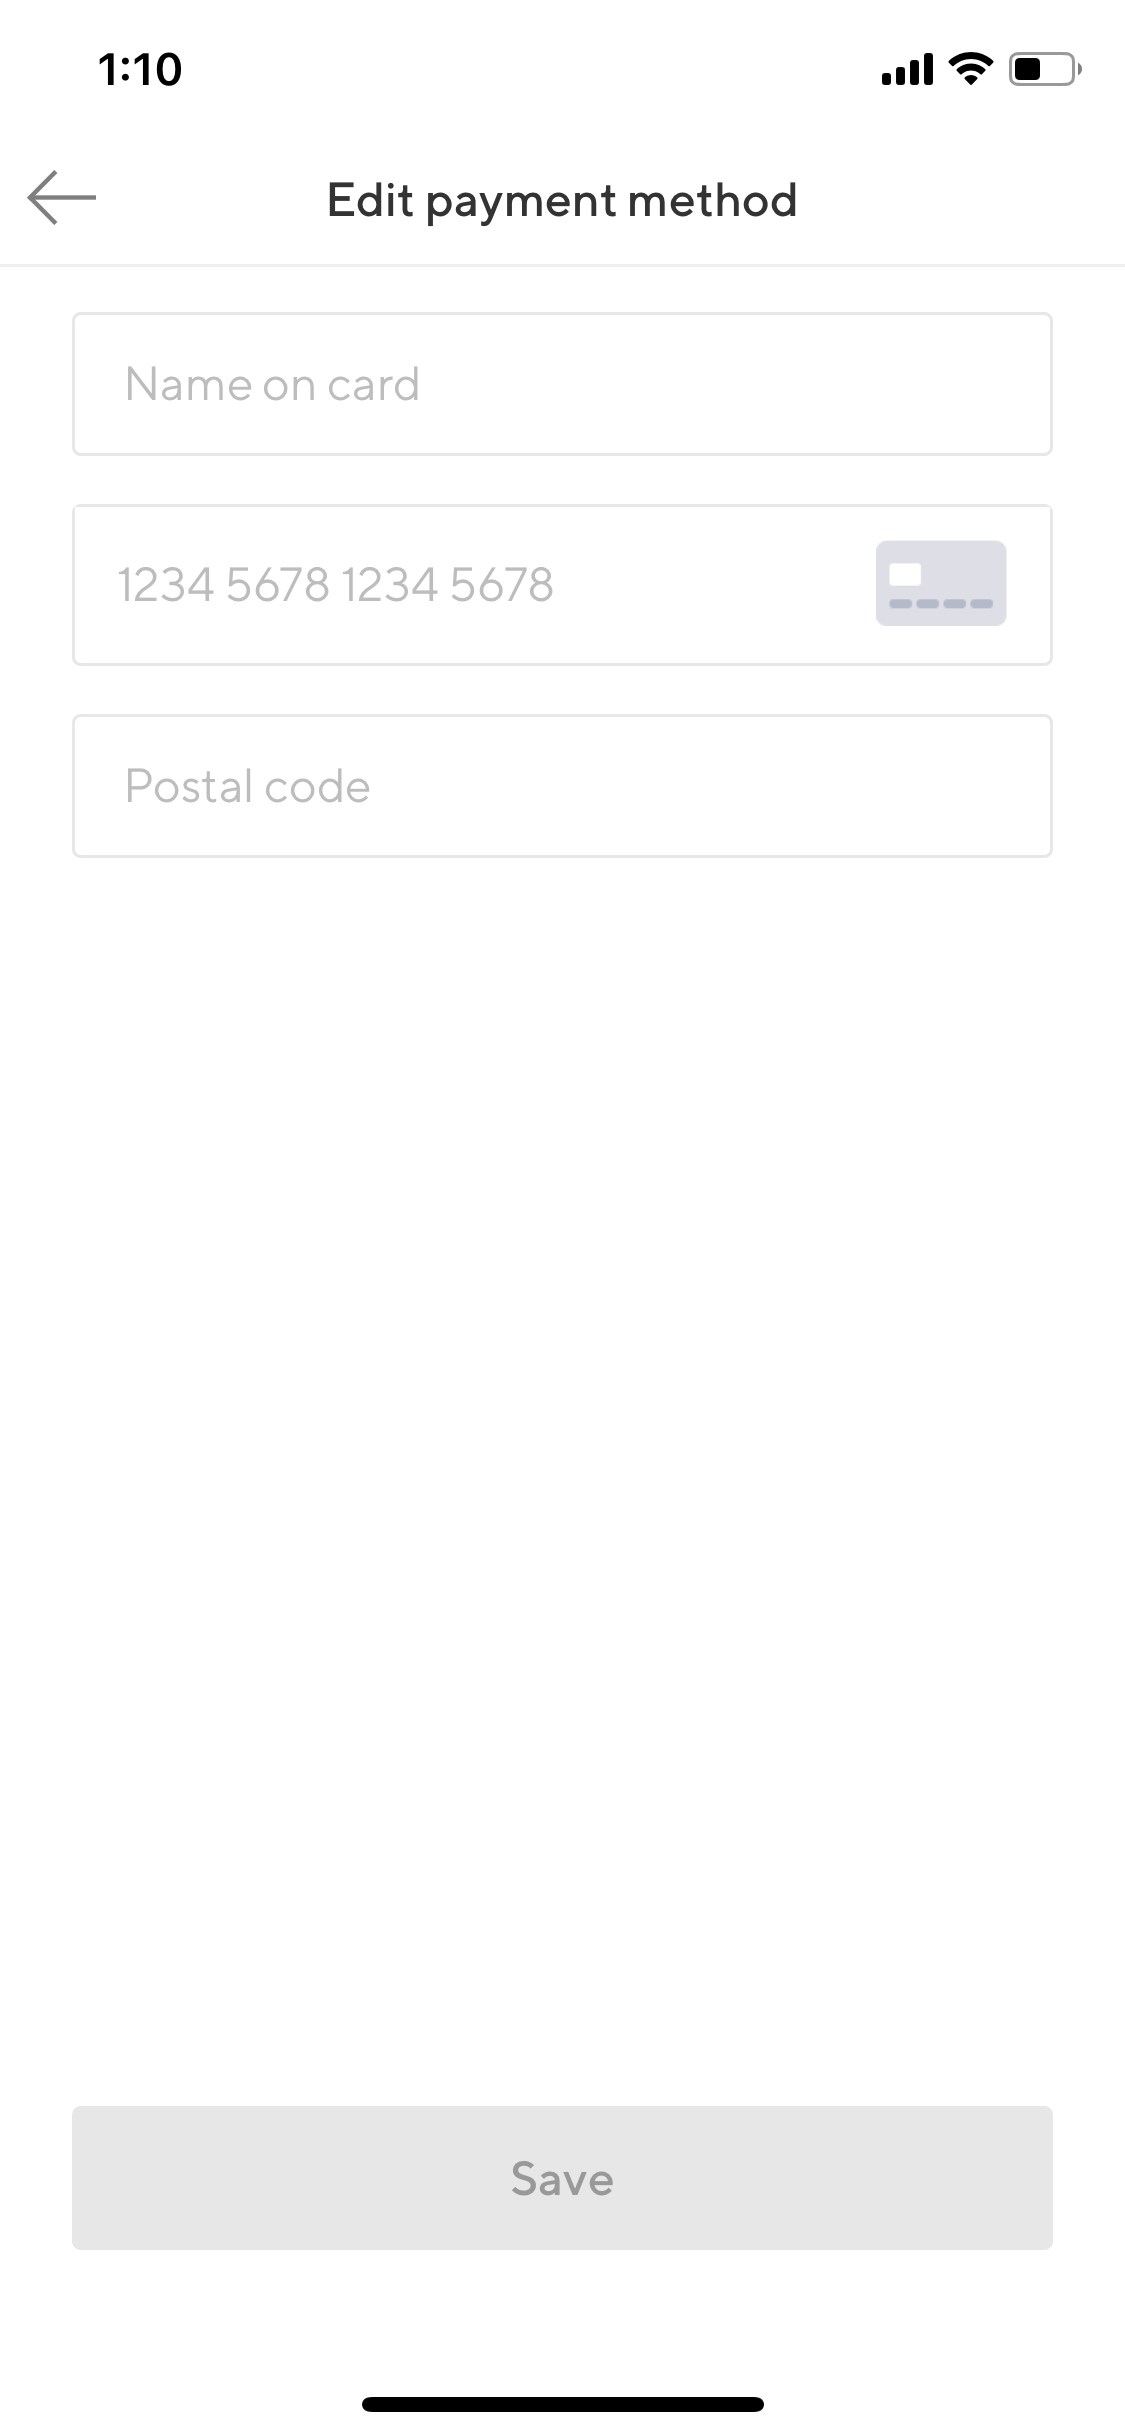Buttons: (56, 2094, 1063, 2254), (2, 143, 124, 256)
Text Fields: (54, 489, 1064, 680), (59, 698, 1061, 879), (59, 301, 1064, 471)
